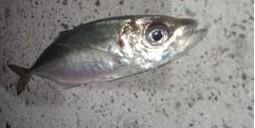fish: (6, 15, 208, 97)
